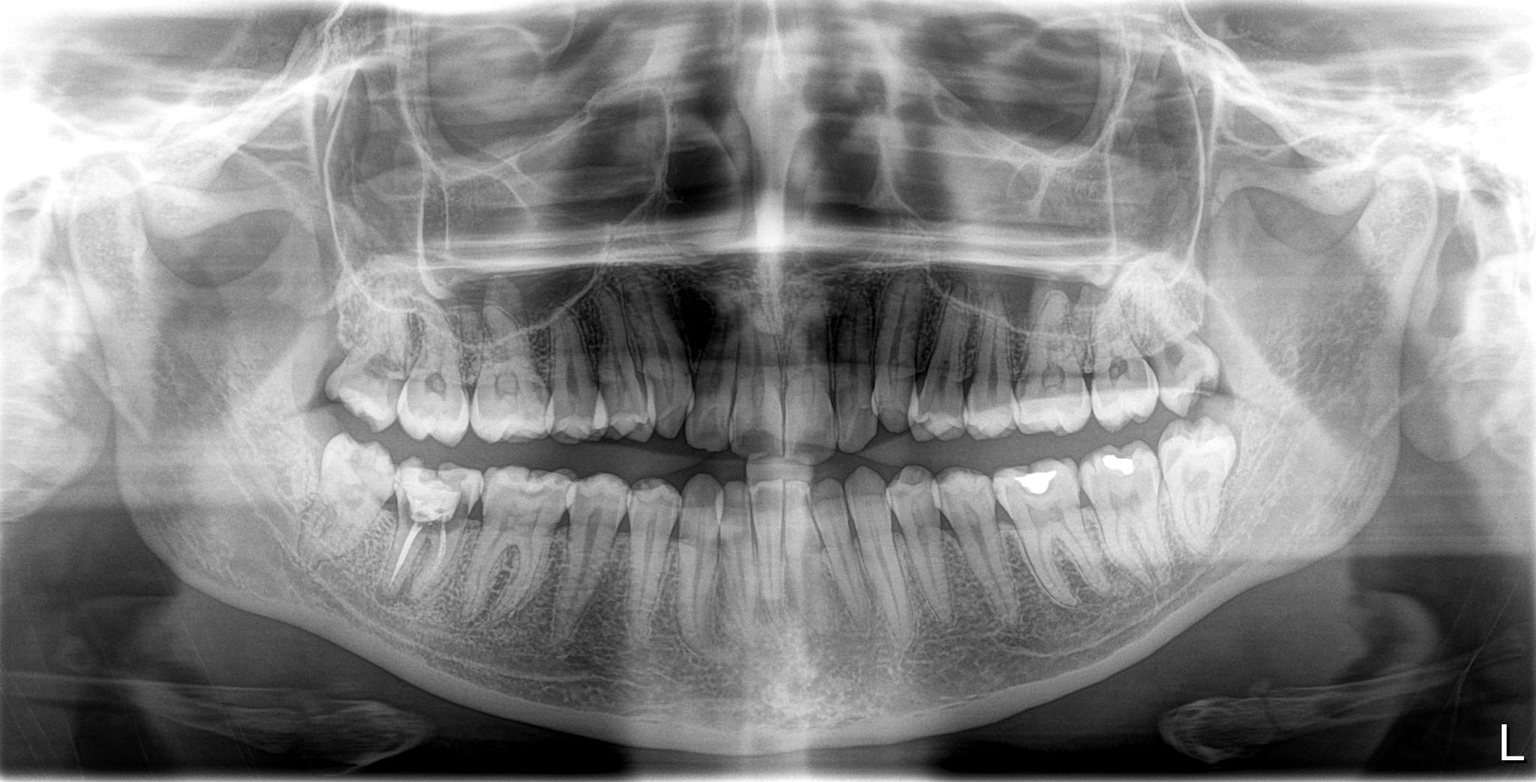Endodontically Treated Tooth: (405, 463, 466, 595), (1005, 465, 1076, 528), (1091, 454, 1157, 517)
Impacted Third Molar: (1166, 427, 1228, 513)
